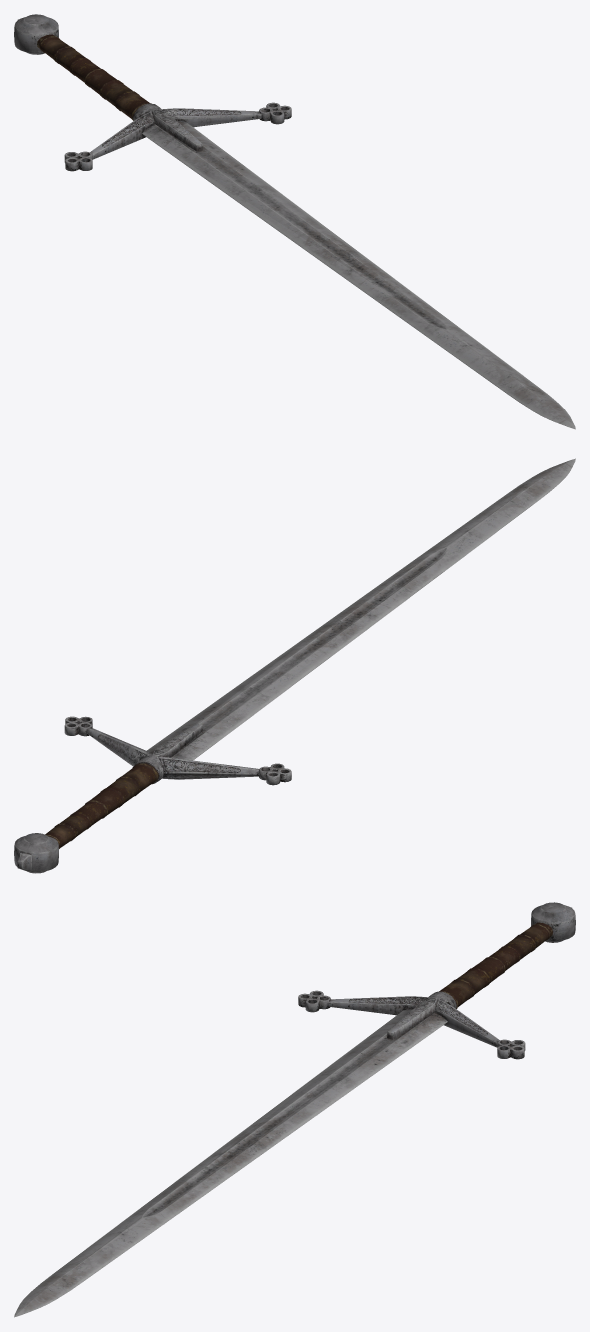
File: claymore.fbx
The picture shows the model from 3 angles, top to bottom: view 1: azimuth 30°, elevation 25°; view 2: azimuth 150°, elevation 25°; view 3: azimuth 330°, elevation 25°; orthographic projection.
Parts seen in each view (by area): view 1: WP_A_0601; view 2: WP_A_0601; view 3: WP_A_0601.
Boxes of the visible parts, x1,y1,x2,y2 form: WP_A_0601: (14,14,575,429); WP_A_0601: (14,458,575,873); WP_A_0601: (14,902,575,1317).
Bounding box in the file's own units: 37.2 × 4.89 × 159.
Materials: 1 (1 with a texture image).
